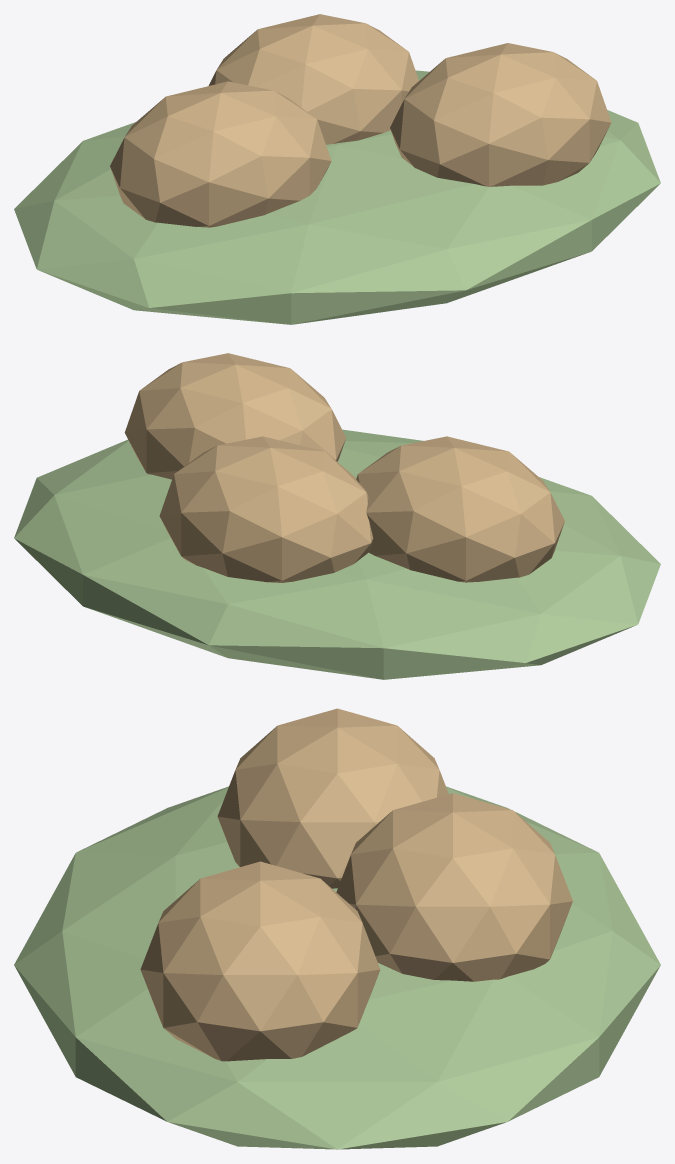
Rendered from food_bundle.glb.
The picture shows the model from 3 angles, top to bottom: view 1: azimuth 30°, elevation 25°; view 2: azimuth 150°, elevation 25°; view 3: azimuth 270°, elevation 25°; orthographic projection. The views are drawn at different scales.
Visible parts, largest first — view 1: BundleLeaf, Food_2, Food_0, Food_1; view 2: BundleLeaf, Food_1, Food_0, Food_2; view 3: BundleLeaf, Food_2, Food_1, Food_0.
Part boxes in pixels (x1,y1,x2,y2): BundleLeaf: [14, 70, 660, 324]; Food_2: [390, 43, 611, 186]; Food_0: [110, 81, 331, 227]; Food_1: [208, 14, 418, 144]; BundleLeaf: [14, 429, 660, 679]; Food_1: [159, 436, 373, 582]; Food_0: [356, 436, 564, 582]; Food_2: [124, 353, 345, 479]; BundleLeaf: [14, 786, 660, 1149]; Food_2: [140, 861, 380, 1061]; Food_1: [336, 793, 572, 981]; Food_0: [217, 708, 448, 888].
Size of the model in its own units: 1.13 by 0.3297 by 0.84.
